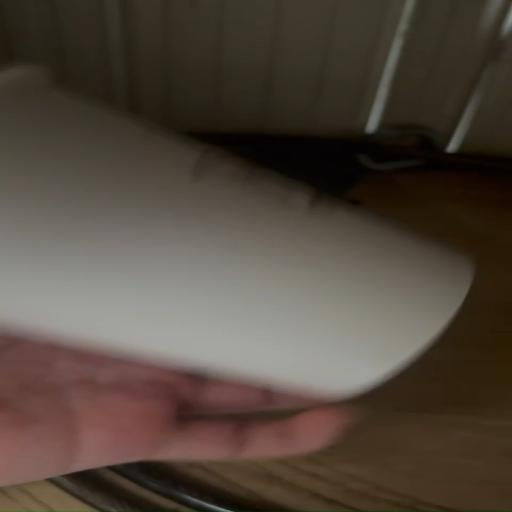Ly_giay: (0, 68, 474, 399)
ly_nhua: (0, 68, 473, 399)
